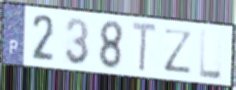2: (30, 13, 56, 64)
3: (63, 16, 92, 67)
8: (97, 19, 125, 71)
L: (198, 28, 224, 81)
T: (131, 19, 159, 75)
Z: (162, 27, 195, 75)
